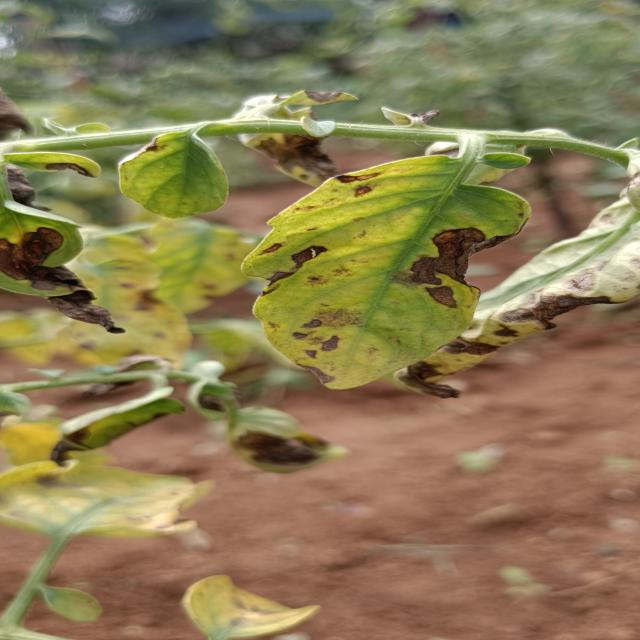tomato_early blight: (248, 147, 526, 389), (0, 444, 227, 563), (0, 190, 133, 324), (105, 134, 231, 212), (175, 574, 328, 638)
